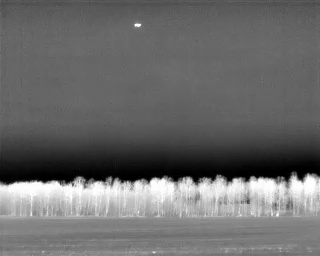DRONE: (131, 19, 144, 32)
